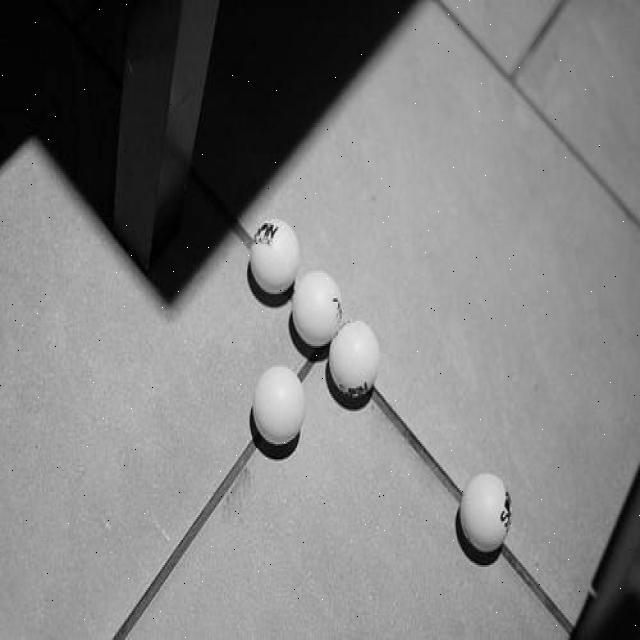ping-pong-ball: (252, 364, 306, 448), (328, 320, 381, 402), (460, 472, 512, 554), (248, 215, 300, 296), (292, 270, 344, 350)
